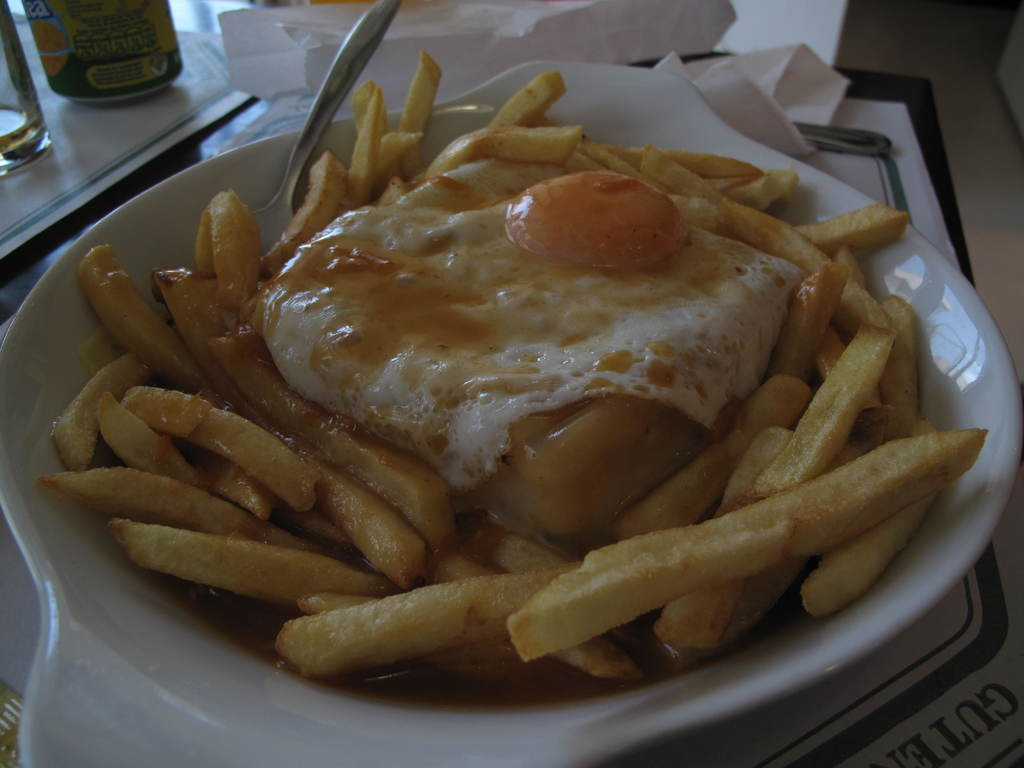French fries: (36, 50, 988, 678)
